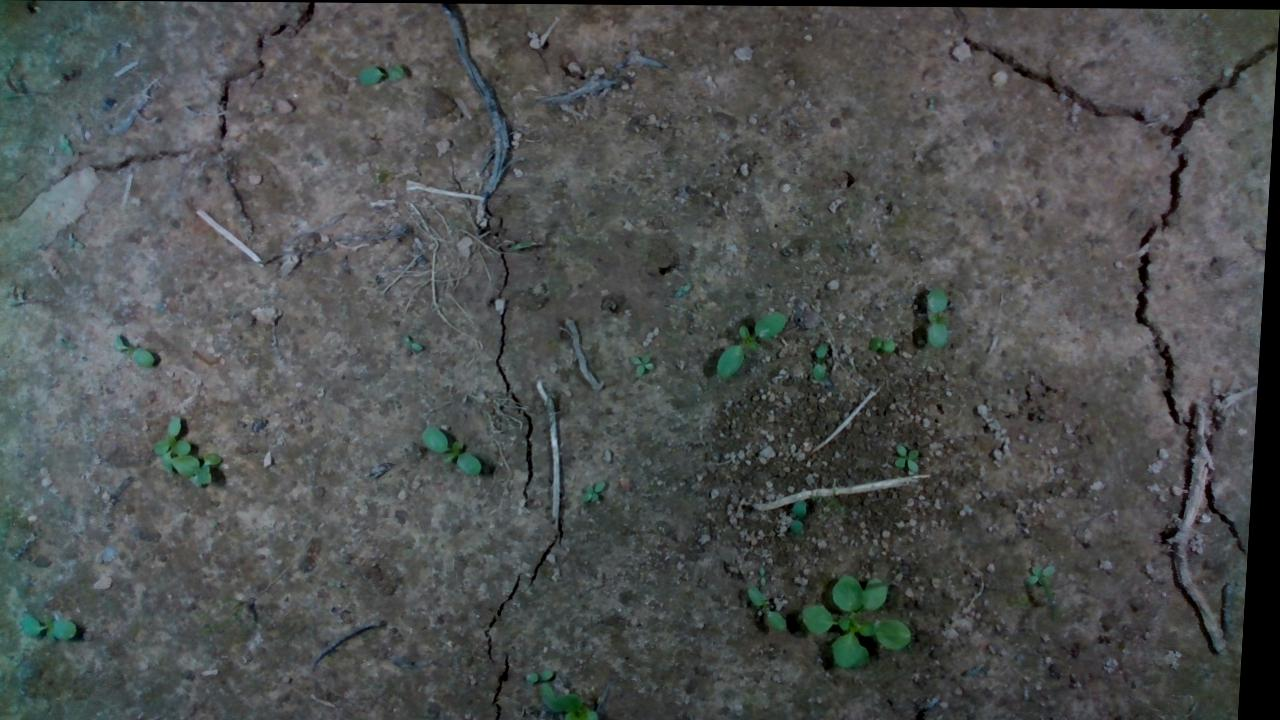weed: (718, 308, 791, 380), (421, 421, 495, 478), (24, 602, 91, 646), (750, 585, 797, 630), (112, 332, 169, 368), (925, 285, 956, 347), (895, 436, 929, 484), (353, 61, 408, 86), (813, 342, 842, 386), (625, 350, 664, 382), (874, 328, 918, 354), (1030, 555, 1062, 589), (584, 479, 609, 508), (404, 329, 423, 348)
